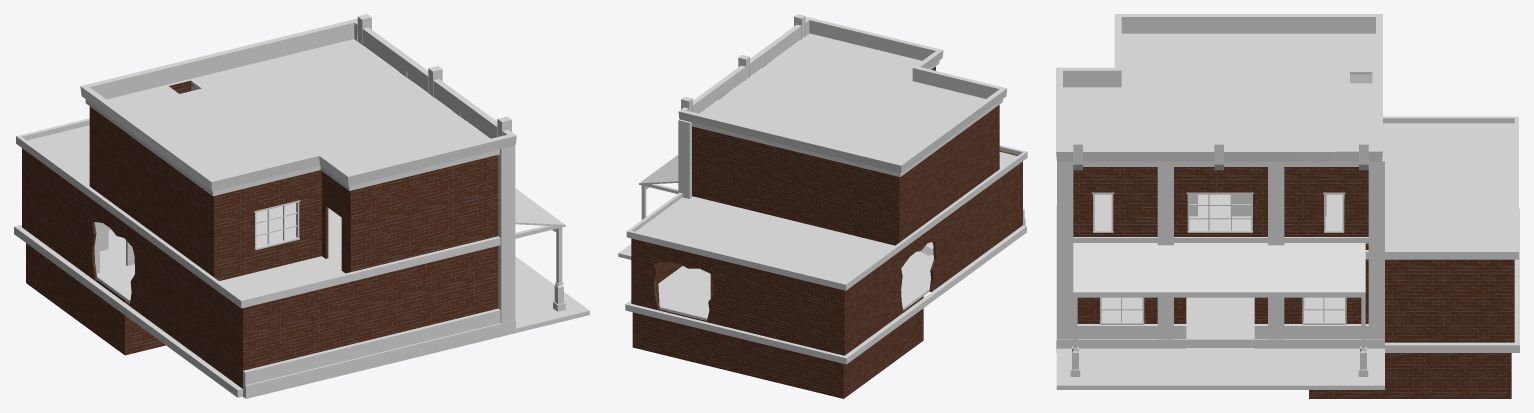
Rendered from BANK_BASE.fbx.
3 renders of one model, left to right at view 1: azimuth 30°, elevation 25°; view 2: azimuth 150°, elevation 25°; view 3: azimuth 270°, elevation 25°, orthographic. The views are drawn at different scales.
Parts seen in each view (by area): view 1: Cube.050_low, Cube.066_low.001, Cube.011_low, Cube.058_low, Cube.071_low.001, Cube.059_low, Cube.019_low, Cube.022_low, Plane.009_low, Cube.060_high.002, Cube.087, Cube.061_low (+7 smaller); view 2: Cube.050_low, Cube.066_low.001, Cube.019_low, Cube.058_low, Cube.051_low, Cube.022_low, Cube.011_low, Cube.059_low, Cube.087, Cube.053_low, Cube.027_low, Cube.016_low (+4 smaller); view 3: Cube.066_low.001, Cube.051_low, Plane.010_low, Cube.050_low, Cube.061_low, Cube.058_low, Cube.019_low, Cube.053_low, Cube.060_high.002, Cube.071_low.001, Cube.016_low, Cube.085_low (+10 smaller).
Boxes of the visible parts, x1,y1,x2,y2 form: Cube.050_low: (89, 80, 498, 280); Cube.066_low.001: (107, 39, 489, 177); Cube.011_low: (89, 198, 498, 388); Cube.058_low: (80, 18, 516, 196); Cube.071_low.001: (243, 308, 515, 398); Cube.059_low: (16, 118, 500, 308); Cube.019_low: (22, 148, 89, 276); Cube.022_low: (26, 243, 165, 355); Plane.009_low: (219, 203, 345, 298); Cube.060_high.002: (354, 35, 515, 323); Cube.087: (14, 224, 242, 397); Cube.061_low: (515, 256, 589, 332); Cube.050_low: (692, 66, 999, 245); Cube.066_low.001: (700, 33, 985, 162); Cube.019_low: (631, 238, 899, 355); Cube.058_low: (678, 17, 1007, 176); Cube.051_low: (636, 196, 894, 282); Cube.022_low: (710, 296, 923, 398); Cube.011_low: (899, 150, 1022, 315); Cube.059_low: (626, 145, 1027, 290); Cube.087: (625, 225, 1026, 364); Cube.053_low: (632, 309, 710, 366); Cube.027_low: (658, 266, 710, 320); Cube.016_low: (901, 251, 933, 310); Cube.066_low.001: (1063, 33, 1375, 148); Cube.051_low: (1382, 123, 1514, 249); Plane.010_low: (1073, 243, 1365, 294); Cube.050_low: (1073, 167, 1368, 249); Cube.061_low: (1056, 348, 1384, 389); Cube.058_low: (1056, 14, 1382, 166); Cube.019_low: (1385, 259, 1514, 342); Cube.053_low: (1309, 353, 1511, 398); Cube.060_high.002: (1057, 154, 1384, 339); Cube.071_low.001: (1056, 205, 1384, 352); Cube.016_low: (1101, 297, 1344, 347); Cube.085_low: (1157, 161, 1284, 339).
Size of the model in its own units: 1386 by 961 by 1558.
